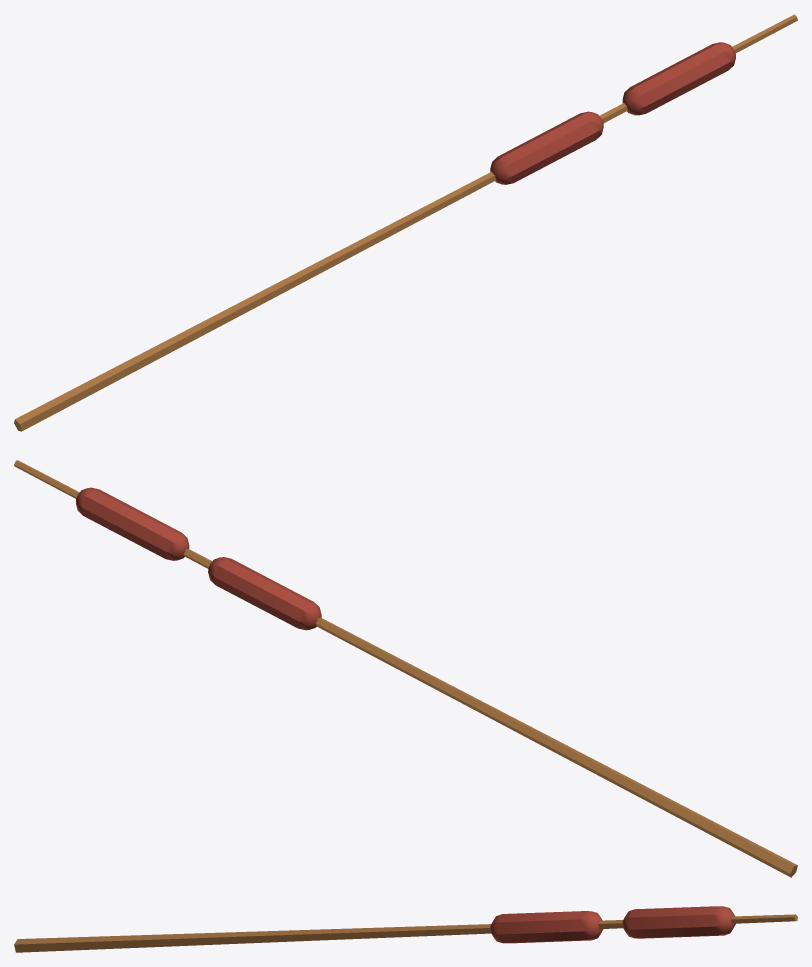
The model's file is SM_Sausage_Stick.glb.
The picture shows the model from 3 angles, top to bottom: view 1: azimuth 30°, elevation 25°; view 2: azimuth 150°, elevation 25°; view 3: azimuth 330°, elevation 25°; orthographic projection.
Parts seen in each view (by area): view 1: SM_Sausage_Stick; view 2: SM_Sausage_Stick; view 3: SM_Sausage_Stick.
Part boxes in pixels (x1,y1,x2,y2): SM_Sausage_Stick: (14, 14, 797, 431); SM_Sausage_Stick: (14, 460, 797, 877); SM_Sausage_Stick: (14, 906, 797, 952).
Bounding box in the file's own units: 0.9689 × 0.2698 × 0.034.
Materials: 1 (1 with a texture image).
